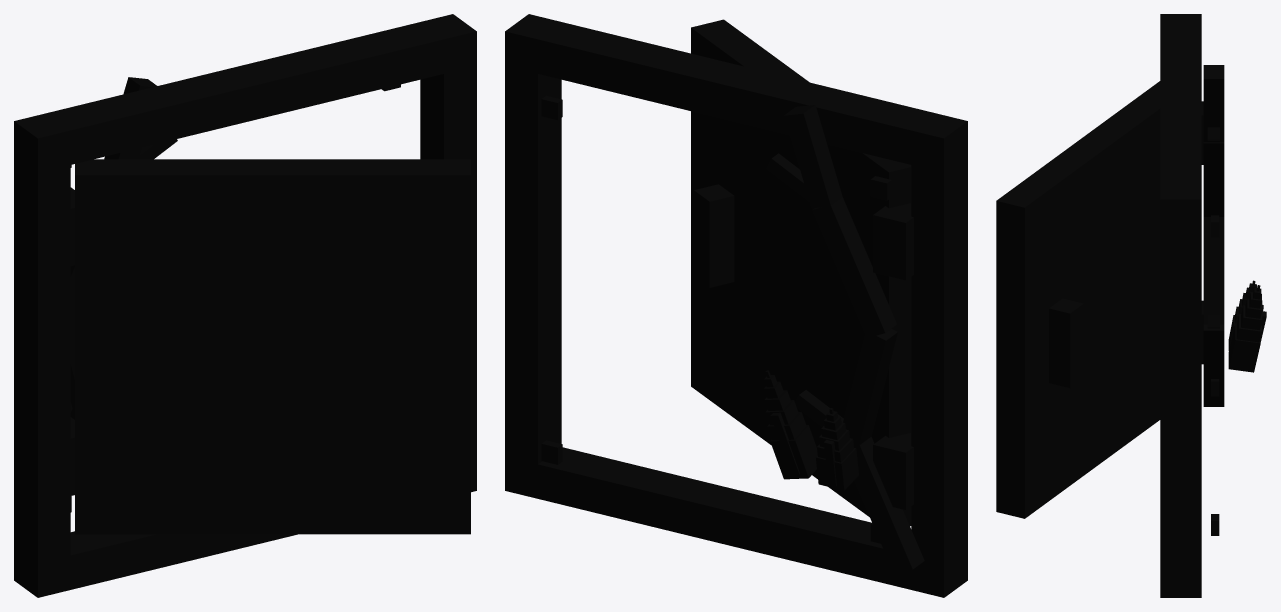
Rendered from lab_hatch_eroded.obj.
The picture shows the model from 3 angles, left to right: view 1: azimuth 30°, elevation 25°; view 2: azimuth 150°, elevation 25°; view 3: azimuth 270°, elevation 25°; orthographic projection. The views are drawn at different scales.
Bounding box in the file's own units: 0.8686 × 0.875 × 0.5344.
